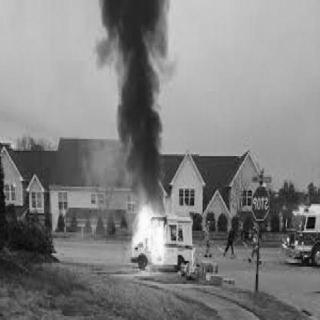Fire: (126, 188, 174, 266)
Smoke: (98, 0, 174, 212)
